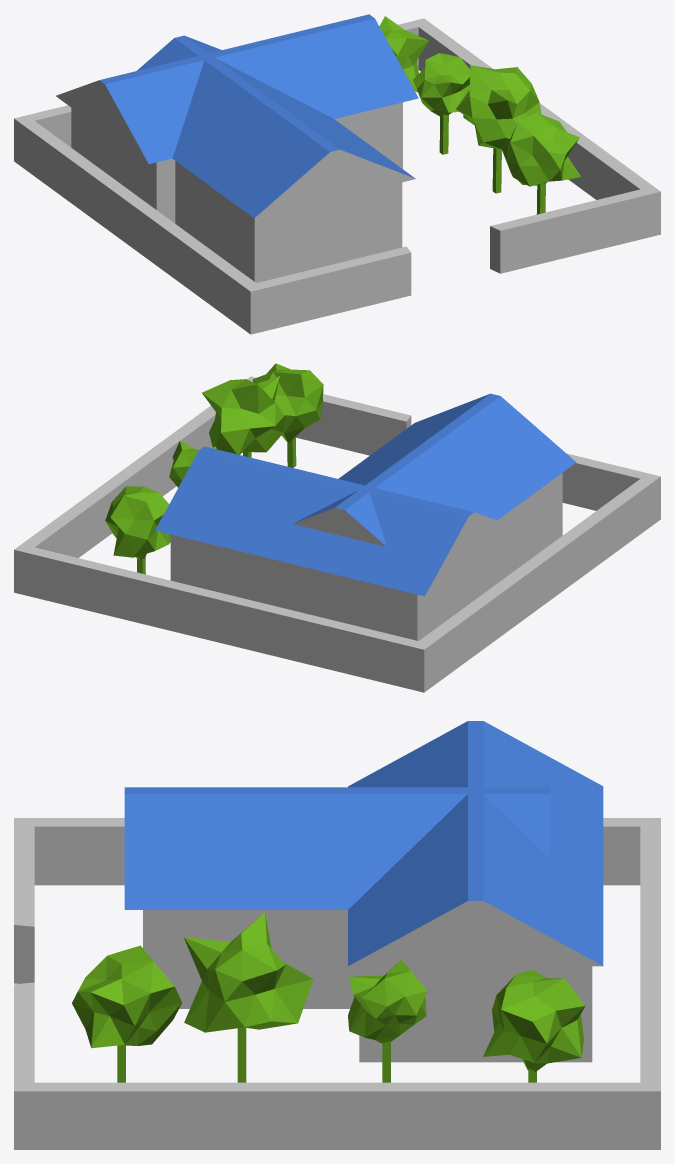
The model's file is house3.fbx.
3 views of the same model, one above another, from view 1: azimuth 30°, elevation 25°; view 2: azimuth 150°, elevation 25°; view 3: azimuth 270°, elevation 25° (orthographic). The views are drawn at different scales.
Parts seen in each view (by area): view 1: house_2; view 2: house_2; view 3: house_2.
Part boxes in pixels (x1,y1,x2,y2): house_2: (14,14,660,334); house_2: (14,363,660,692); house_2: (14,721,660,1149).
Size of the model in its own units: 185 by 54.25 by 185.
